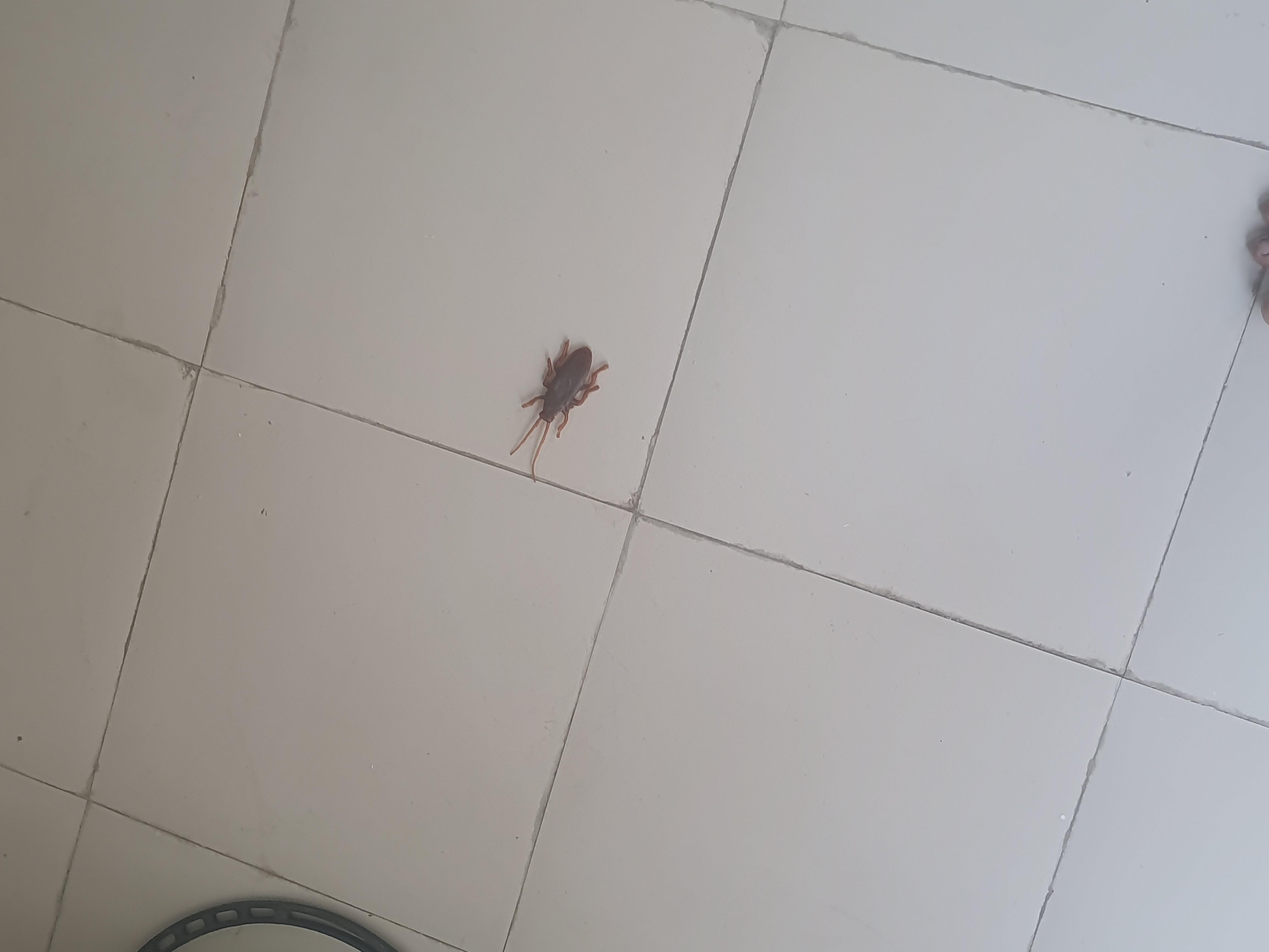cockroach: (609, 371, 813, 463)
